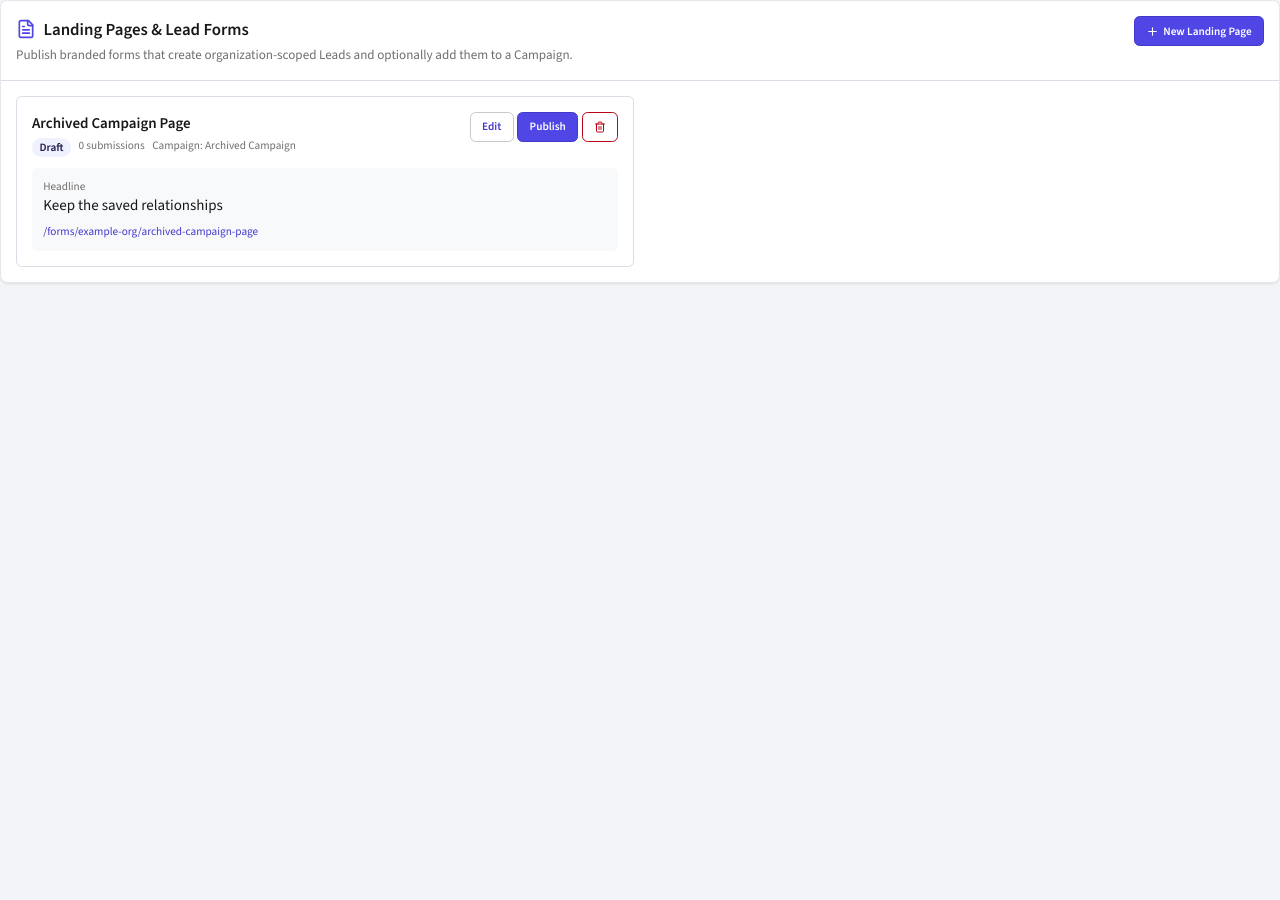
Test: final edit hydration gaps › keeps an archived Landing Page campaign label and inactive owner visible
Step 1. Click the button "Edit" → click(492, 127), box x1=470 y1=112 x2=514 y2=142
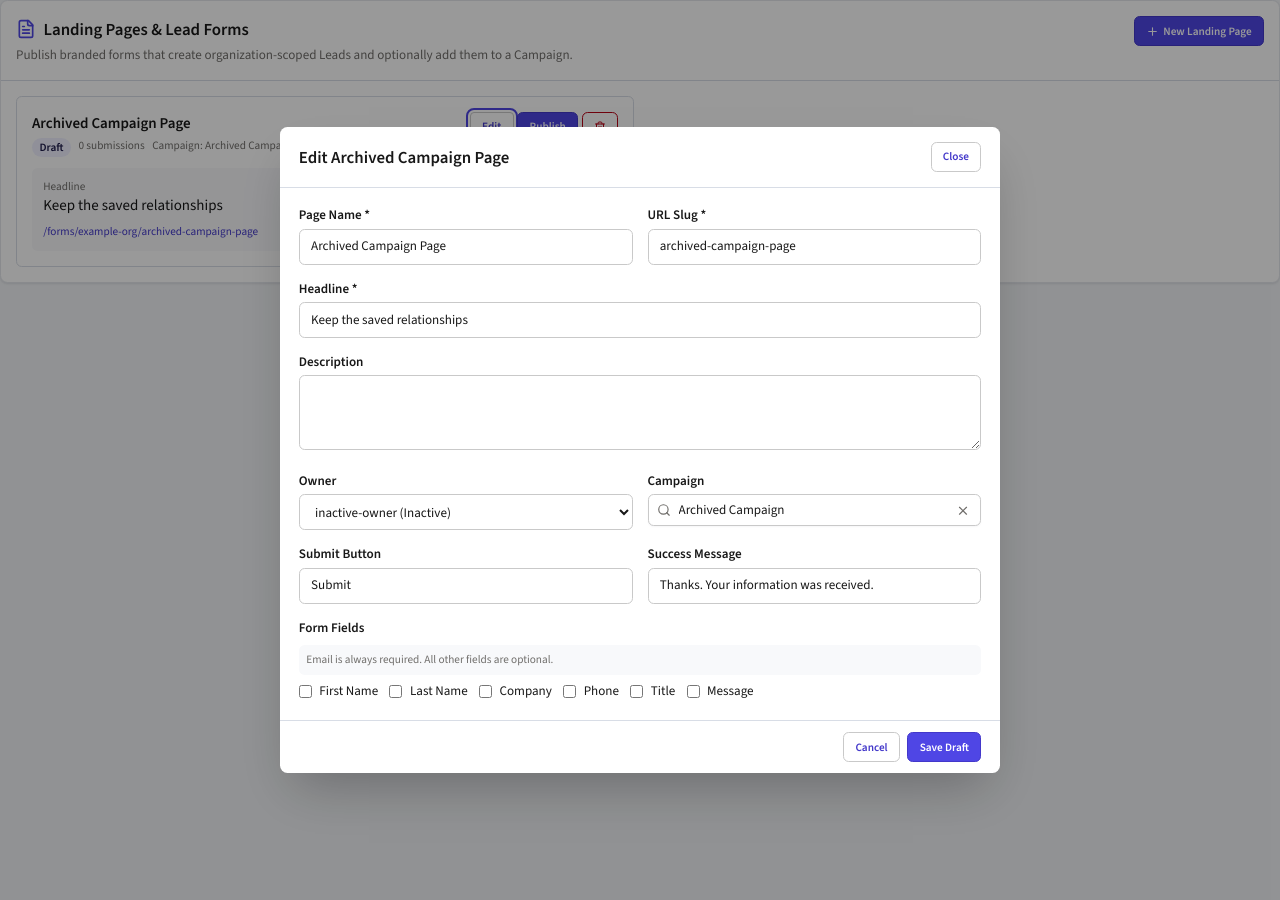
expect the dropdown labelled "Owner" shows "inactive-owner (Inactive)": met, box x1=299 y1=494 x2=633 y2=530
expect the dropdown labelled "Campaign" holds "Archived Campaign": met, box x1=648 y1=494 x2=981 y2=526
